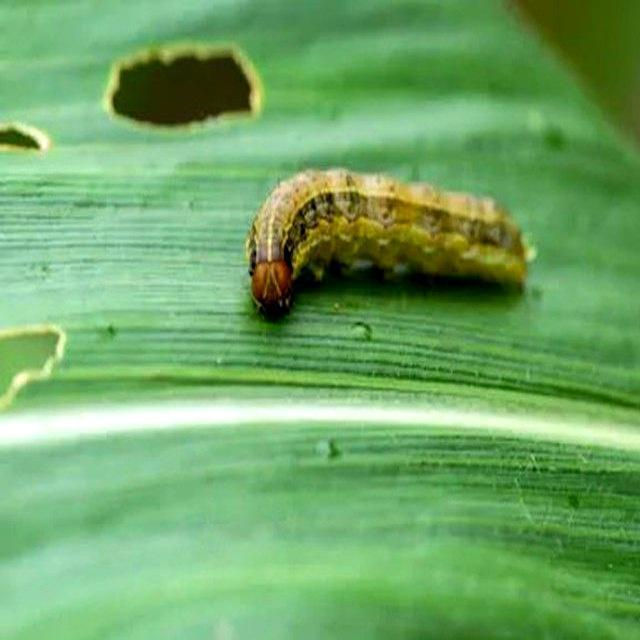gusano_cogollero: (242, 166, 534, 322)
